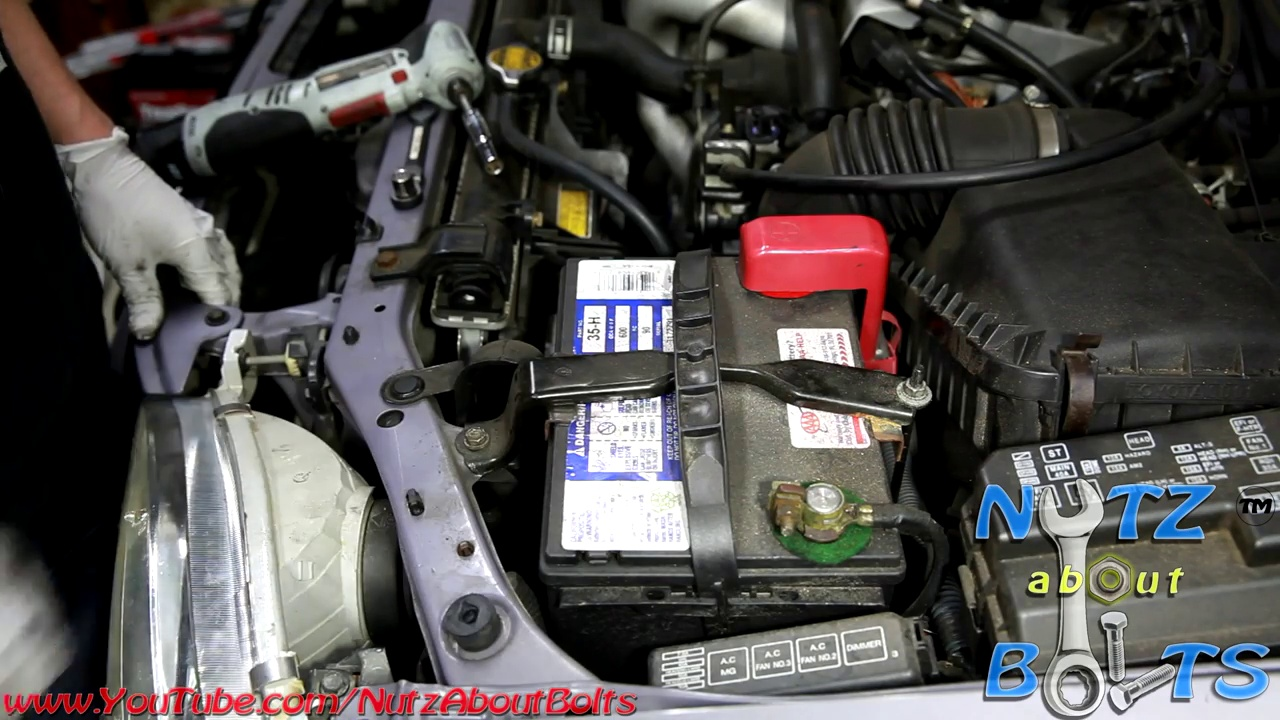battery: (549, 211, 936, 600)
neg_connected: (749, 451, 937, 571)
pos_connected: (721, 204, 905, 342)
